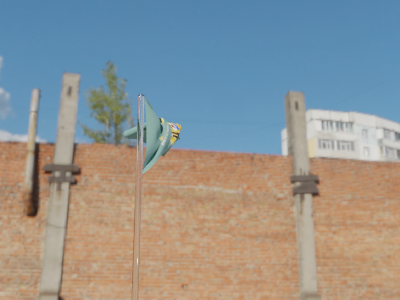Delaware flag: (124, 97, 183, 175)
